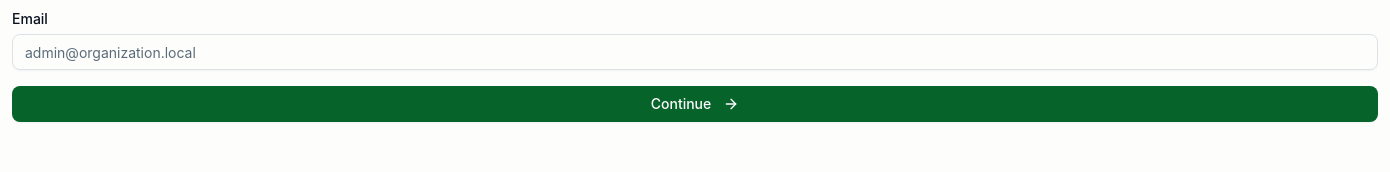
Test case: ForgotPasswordForm › shows validation when submitting empty form
Click the button "Continue" at (695, 104), box [12,86,1378,122]
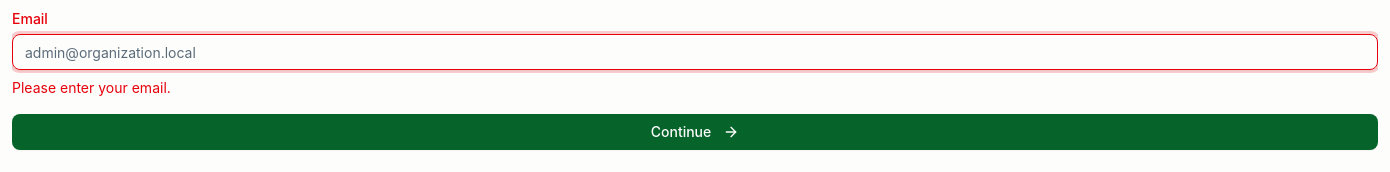
Check: the text "Please enter your email." is shown, box [12,79,171,96]
